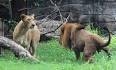lion: (58, 23, 115, 65), (13, 11, 40, 60)
